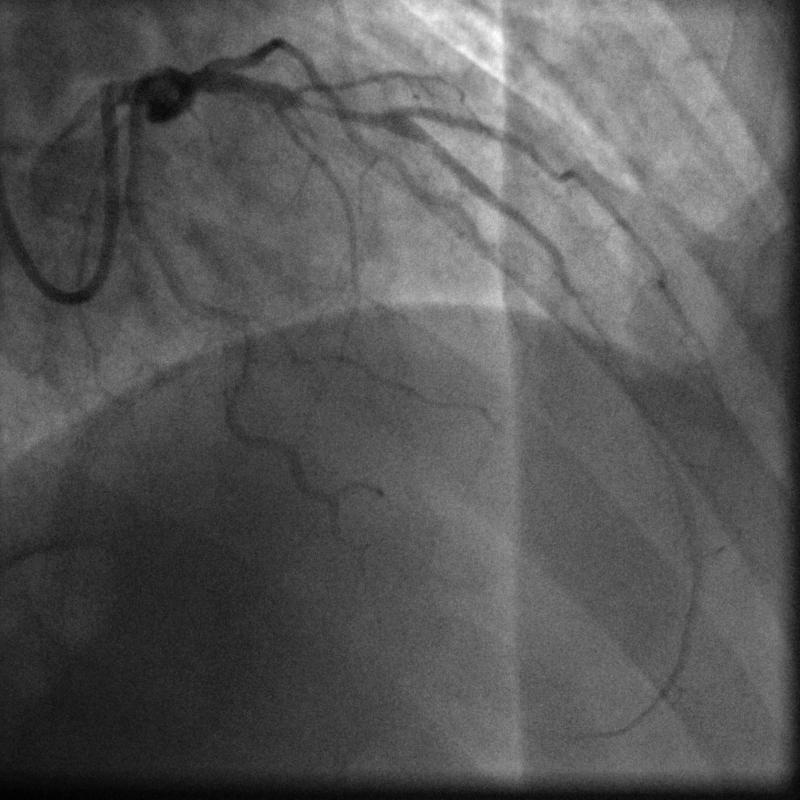Stenosis: (291, 88, 378, 130)
